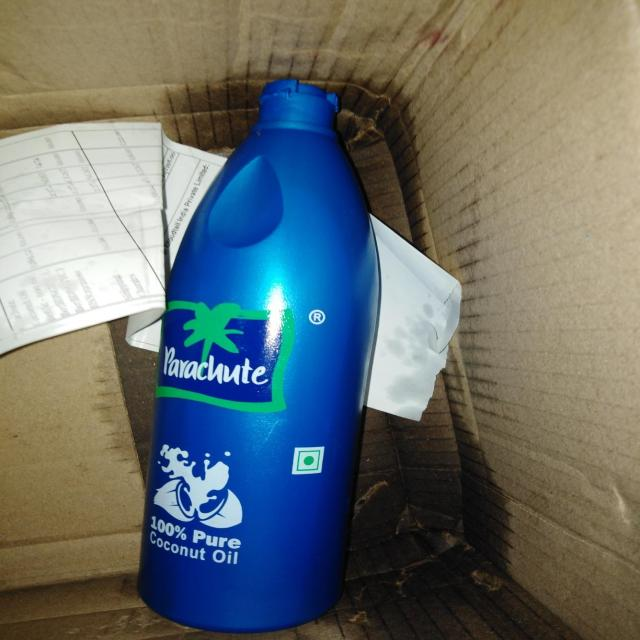parachute_oil: (137, 80, 370, 638)
